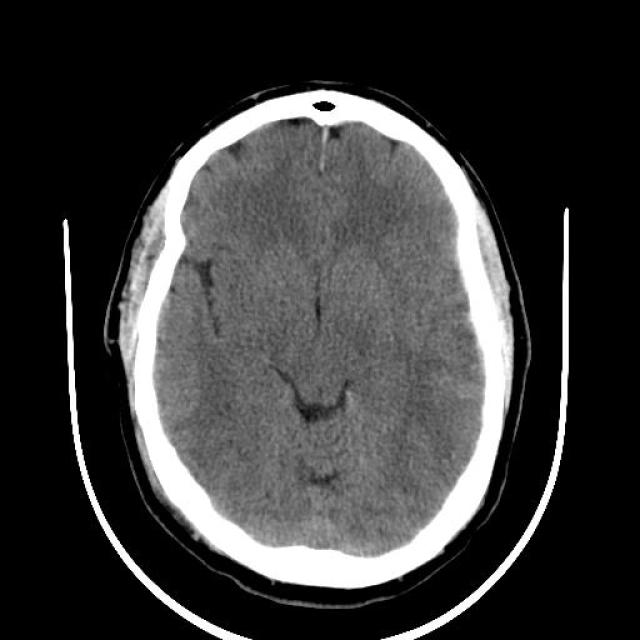Subdural: (455, 310, 550, 391)
